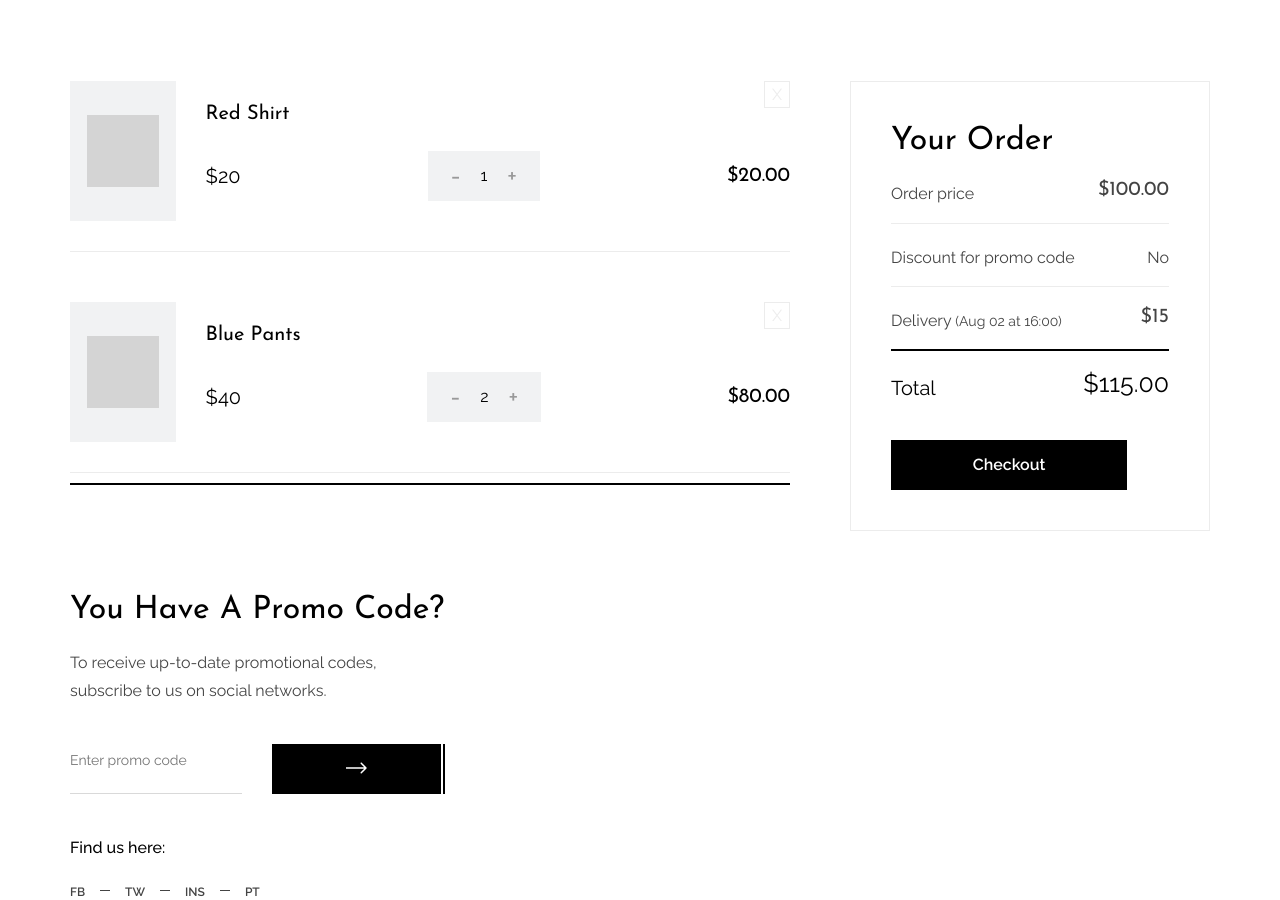
Test case: Cart Integration Tests › применение валидного промокода уменьшает итоговую сумму
The width and height of the screenshot is (1280, 900).
(page scrolled)
Type "ilovereact" into the field with placeholder "Enter promo code". click: (156, 769)
box: [70,744,242,794]
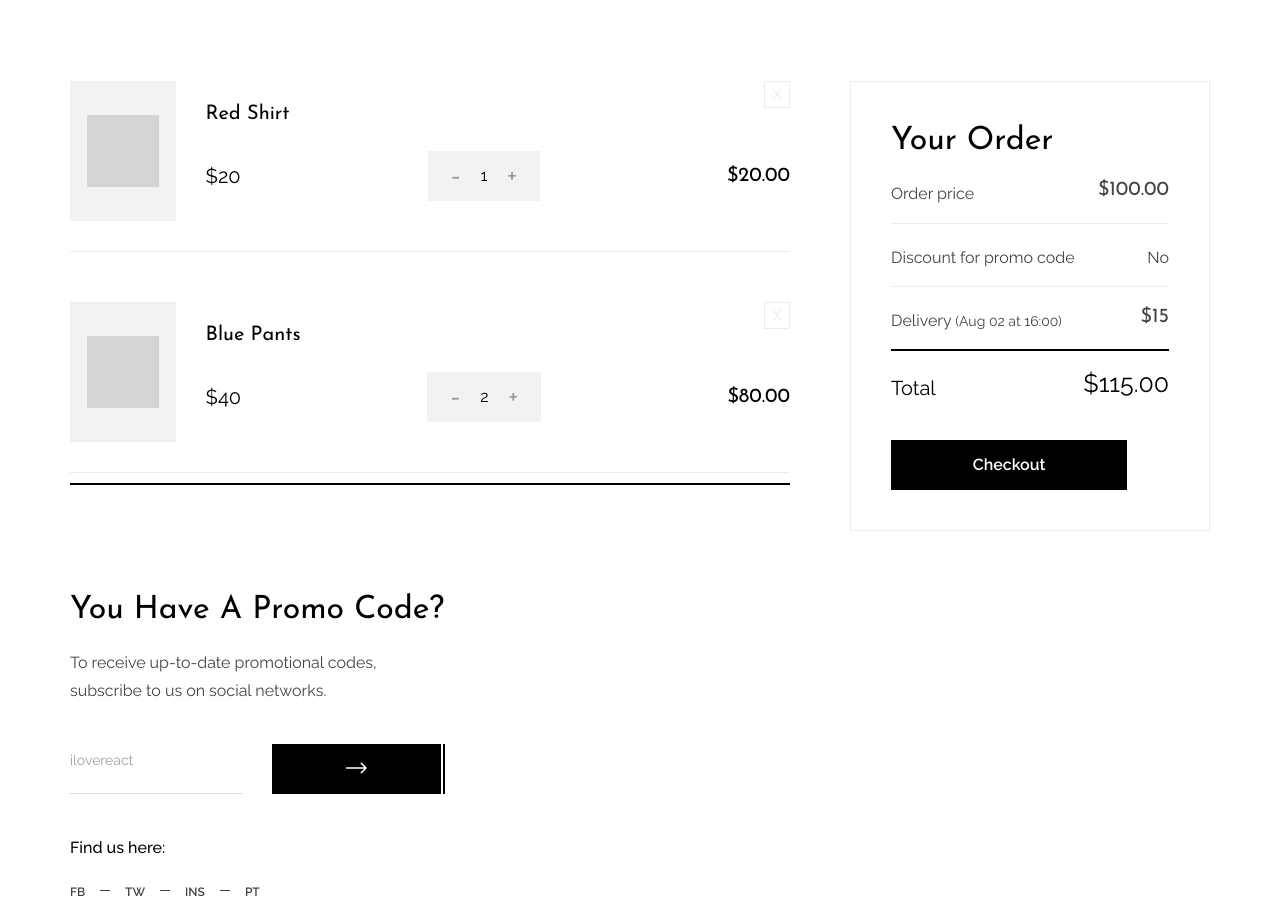
Click the button named "arrow". click: (357, 769)
box: [272,744,441,794]
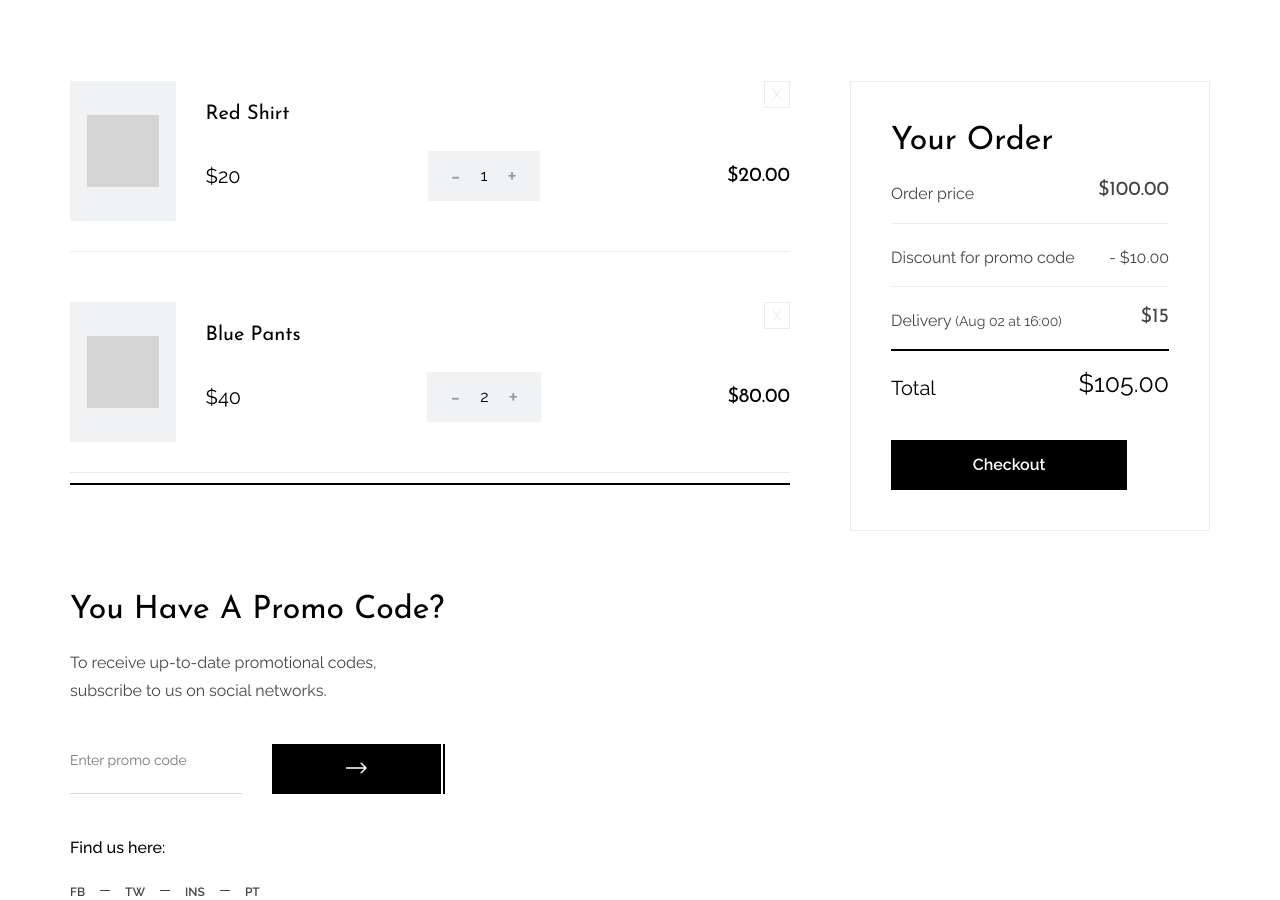
Now the text "$105.00" is shown, box [1079,371,1169,405]
